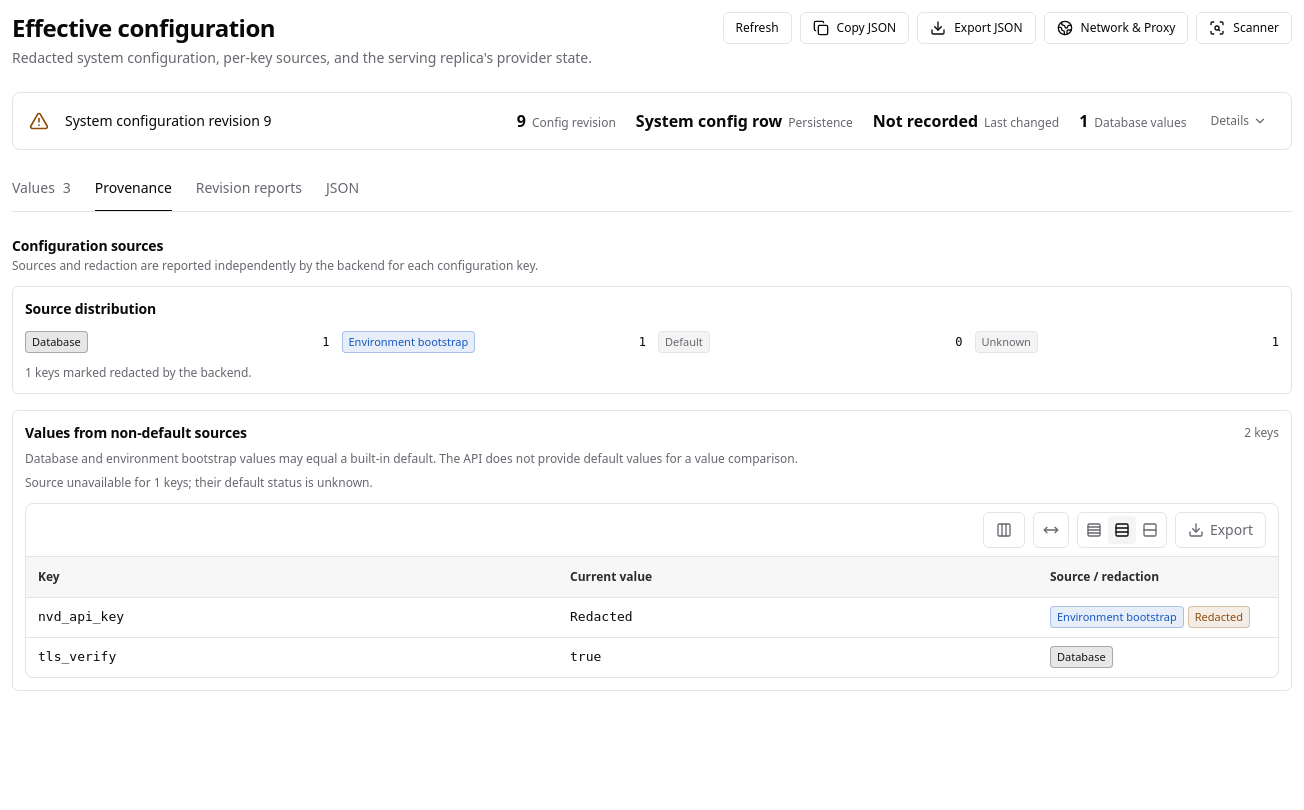
Test: uses backend sources even for default-valued writes and distinguishes provider from component reports
Expected: the row "tls_verify true Database" is shown, [26,637,1278,677]
Expected: the row "nvd_api_key Redacted Environment bootstrap Redacted" is shown, [26,597,1278,637]
Step 1. Press the mouse on the tab "Revision reports" → point(249, 193), box [196,174,302,212]
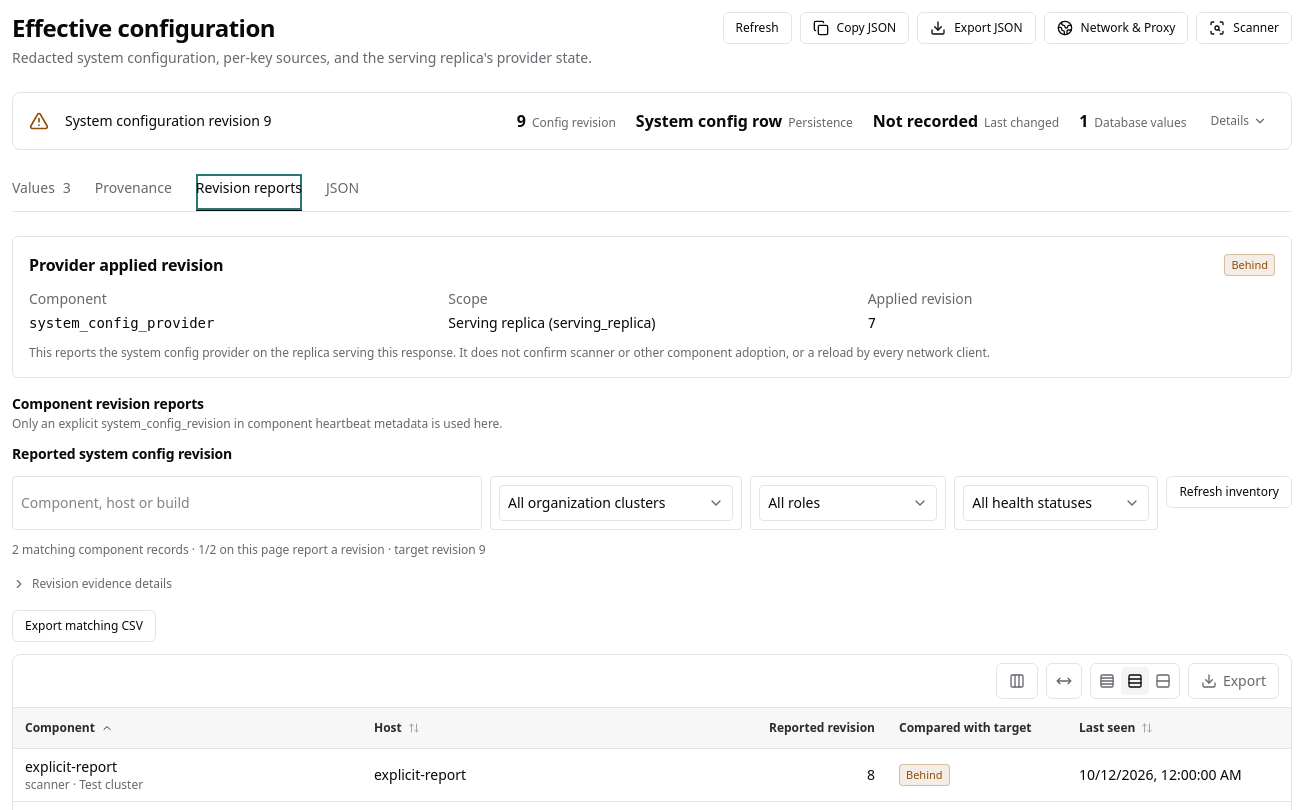
Expected: the element with test id "effective-config-provider-applied" shows "serving_replica", [448,313,656,332]
Expected: the element with test id "effective-config-provider-applied" shows "Behind", [1231,257,1268,272]
Expected: the element with test id "effective-config-provider-applied" shows "7", [868,315,876,331]
